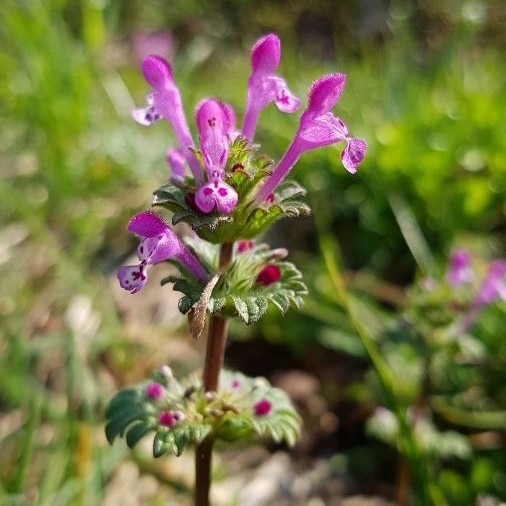obstacle: (77, 34, 363, 493)
